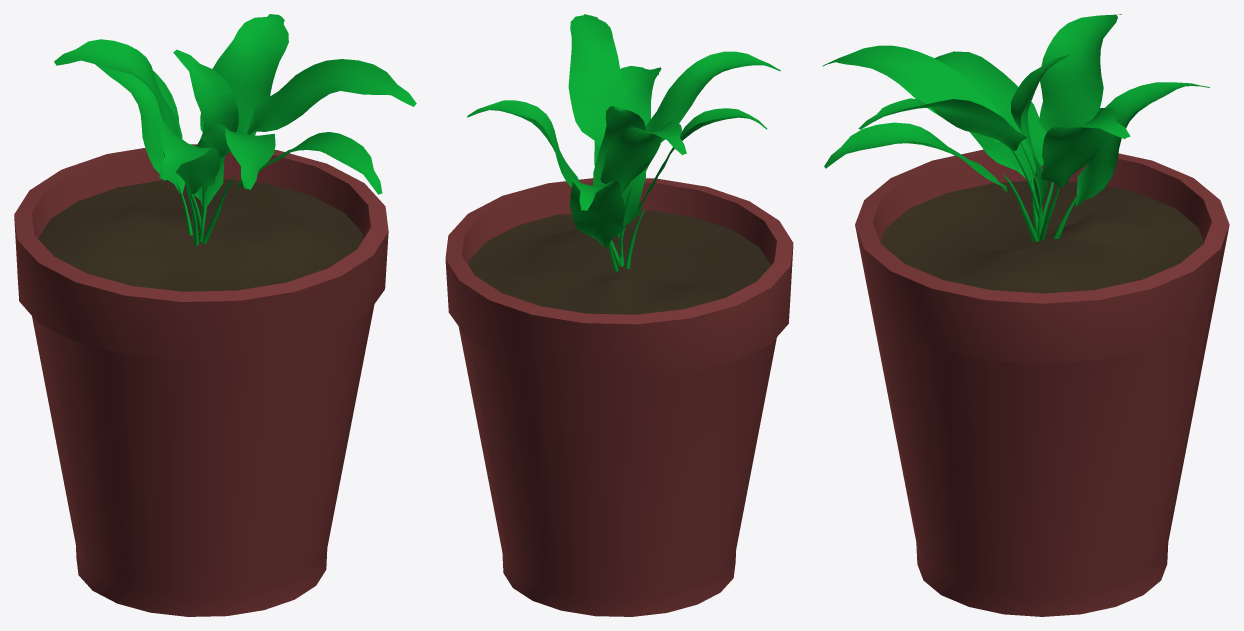
Rendered from Pot.fbx.
3 renders of one model, left to right at view 1: azimuth 30°, elevation 25°; view 2: azimuth 150°, elevation 25°; view 3: azimuth 270°, elevation 25°, orthographic. The views are drawn at different scales.
Parts seen in each view (by area): view 1: pasted__pCylinder1, polySurface17, pCylinder2; view 2: pasted__pCylinder1, pCylinder2, polySurface17; view 3: pasted__pCylinder1, polySurface17, pCylinder2.
Boxes of the visible parts, x1,y1,x2,y2 form: pasted__pCylinder1: [14, 144, 388, 616]; polySurface17: [54, 14, 416, 245]; pCylinder2: [38, 179, 363, 291]; pasted__pCylinder1: [445, 178, 793, 616]; pCylinder2: [468, 210, 770, 314]; polySurface17: [467, 14, 780, 271]; pasted__pCylinder1: [855, 149, 1229, 616]; polySurface17: [822, 14, 1209, 242]; pCylinder2: [880, 180, 1203, 293].
Size of the model in its own units: 1.8 by 2.72 by 1.96.
